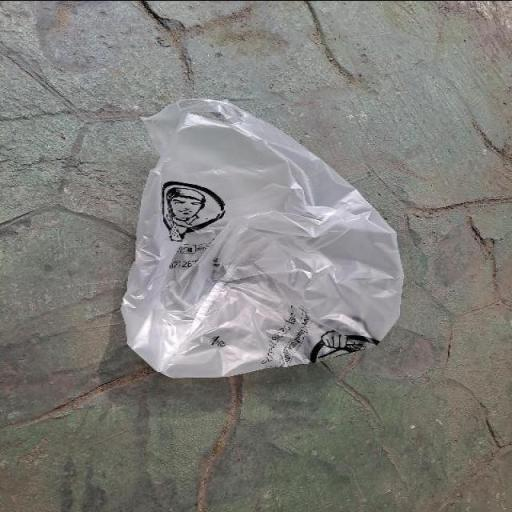plastic-bag: (116, 94, 409, 386)
